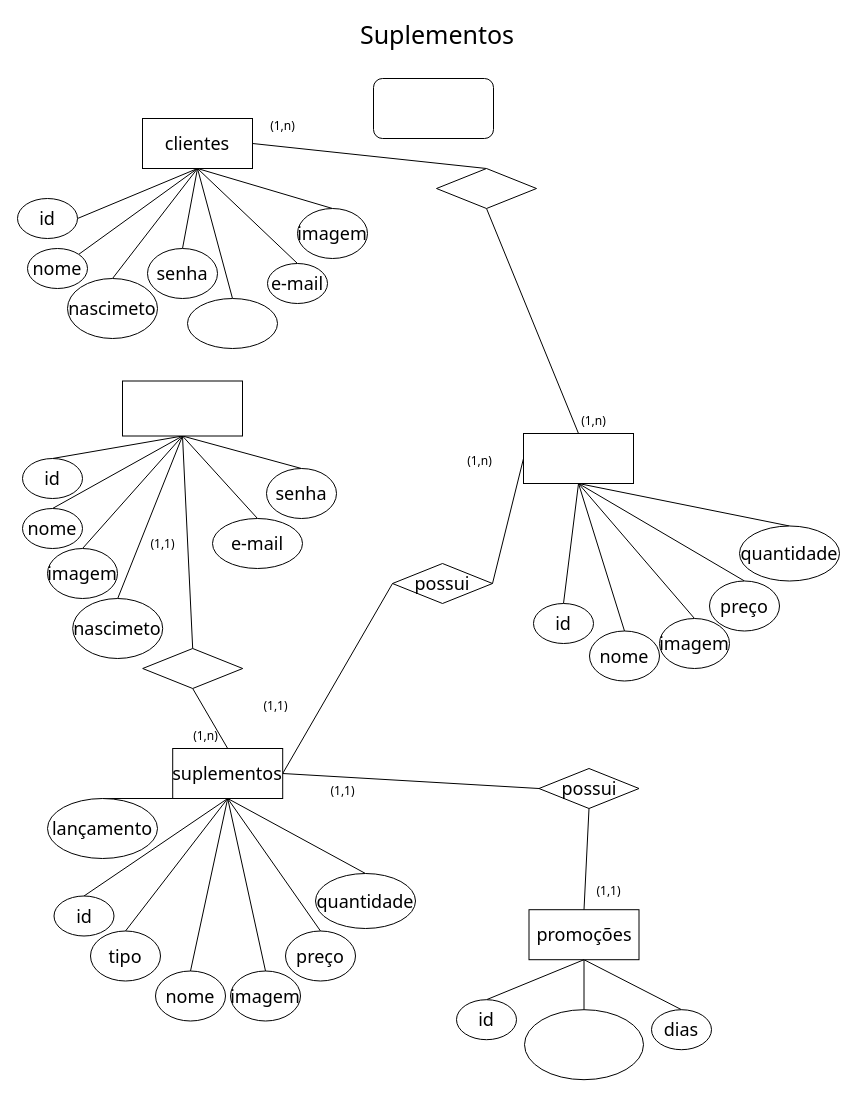
Some shapes in this 857 by 1097 pixel diagram are drawn without their labels. Here are the shapes that lost their labels. From the top down, the centre of each, then its label:
the point at 433,108: MER - DER
the point at 486,188: compra
the point at 232,323: endereço
the point at 182,408: administrador
the point at 578,458: pedido
the point at 192,668: cadastra
the point at 584,1044: porcentagem
